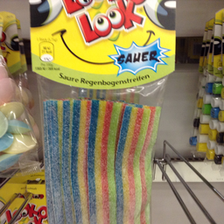candy: (31, 2, 174, 224)
